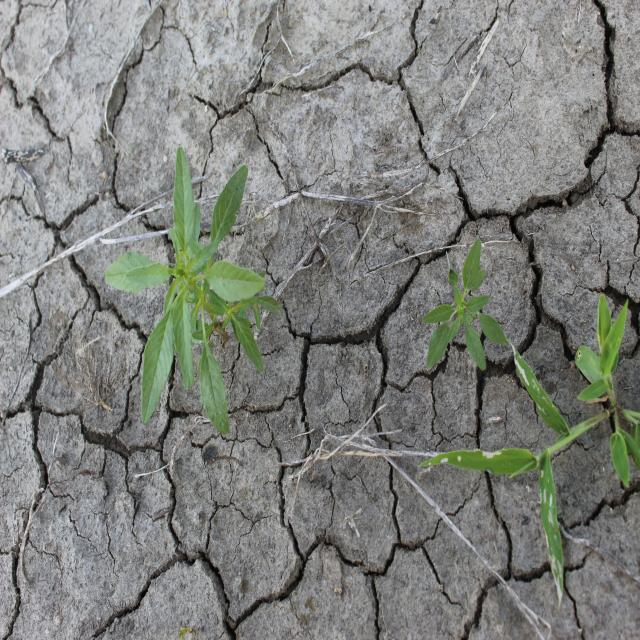Waterhemp: (104, 146, 284, 437), (421, 238, 508, 371)
